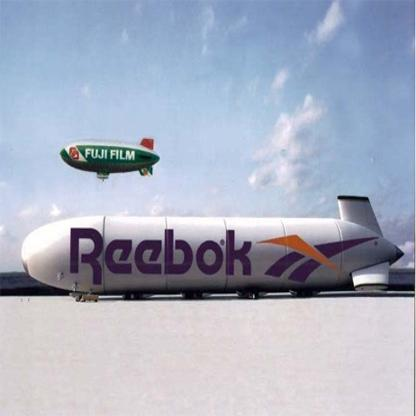Airship: (18, 194, 404, 304), (58, 132, 162, 189)
